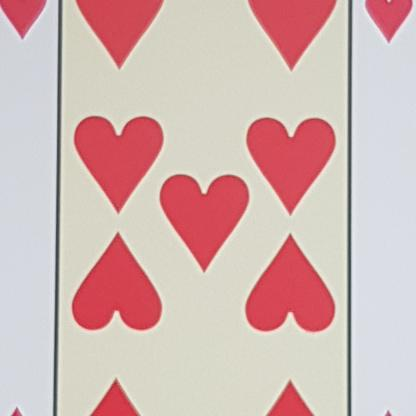9h: (350, 0, 415, 56), (0, 0, 62, 55)
